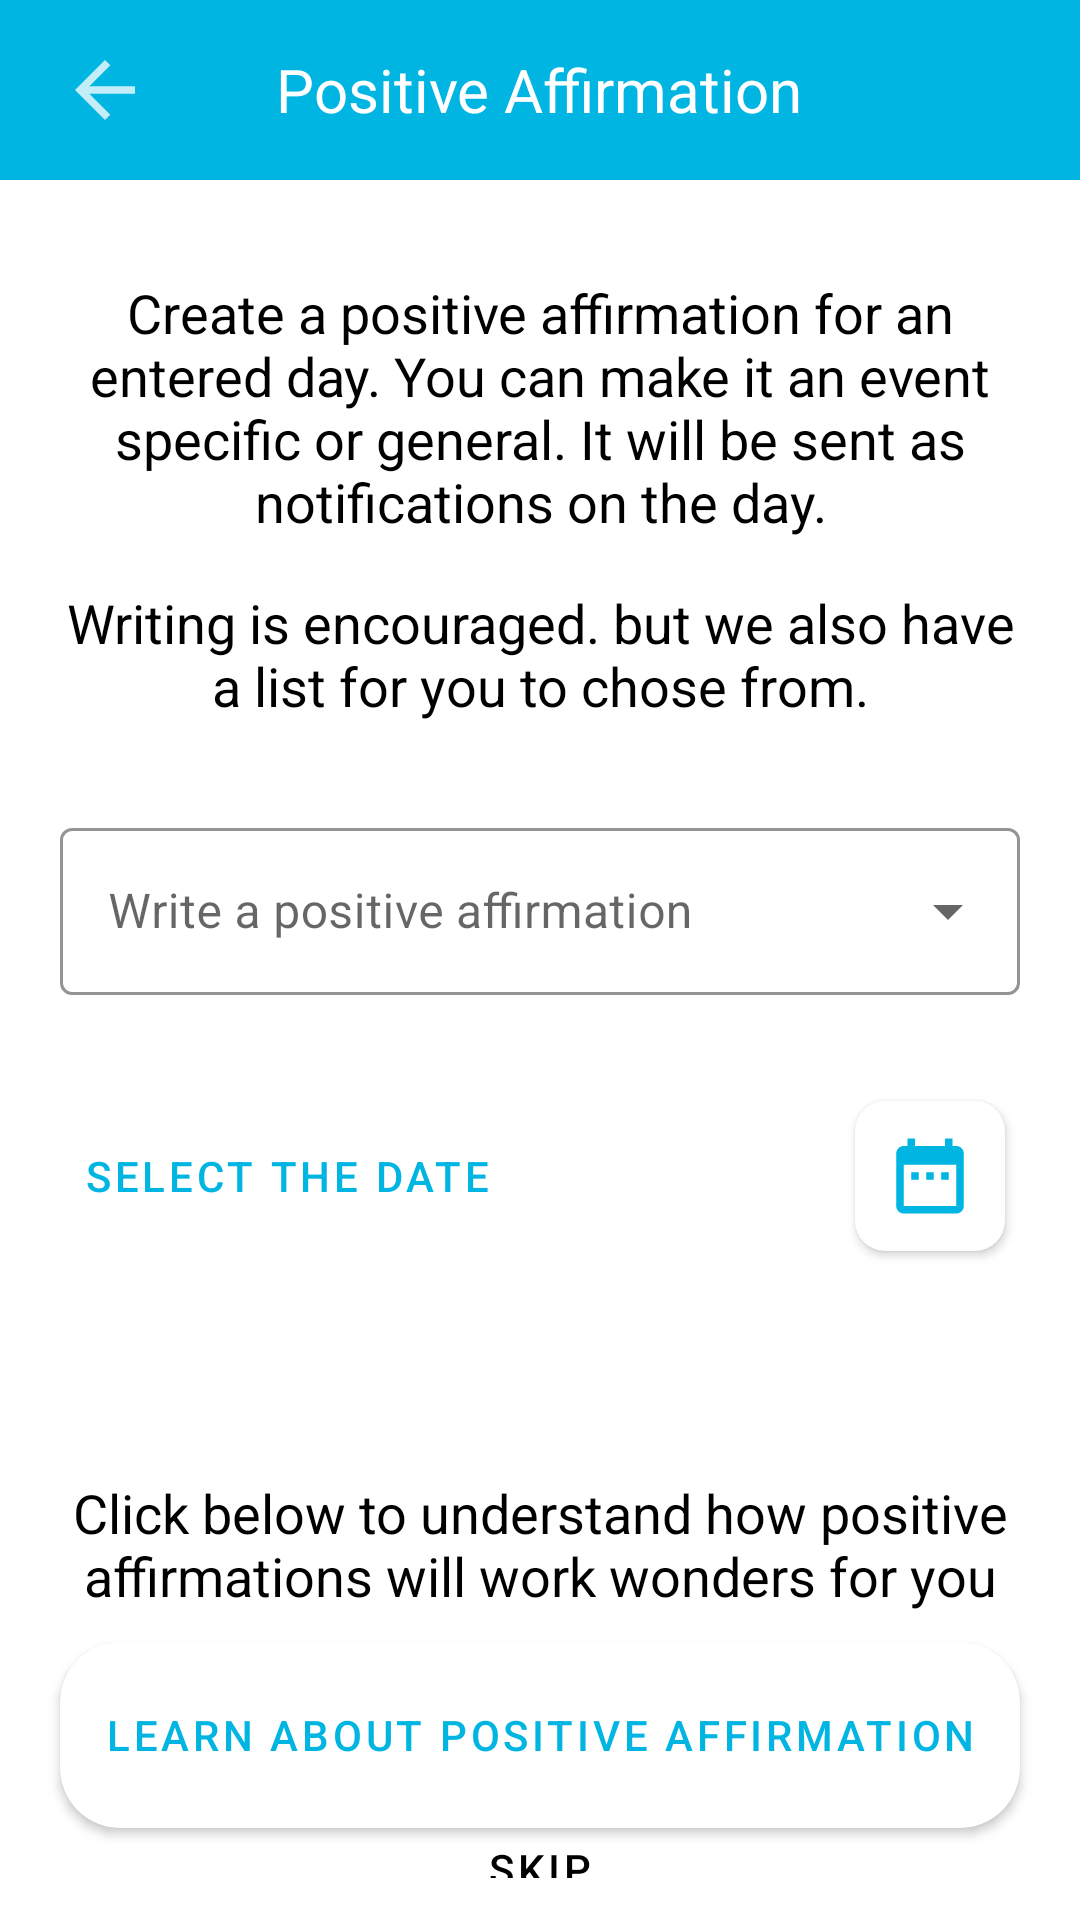

Screen size 1080px x 1920px. Icon name, then its box in pixels as (x1, y1, x2, y2):
arrow: (75, 60, 135, 120)
date range: (896, 1138, 964, 1214)
